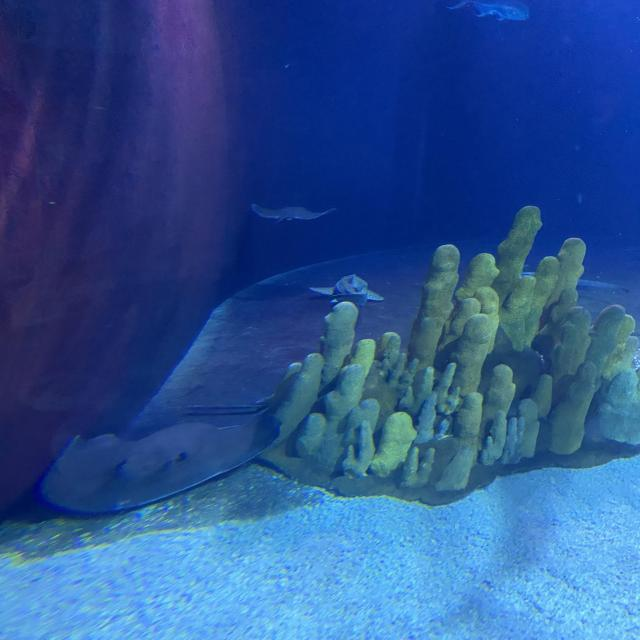fish: (446, 0, 530, 21)
shark: (308, 274, 384, 306)
stingray: (39, 412, 282, 512), (252, 203, 336, 220)
